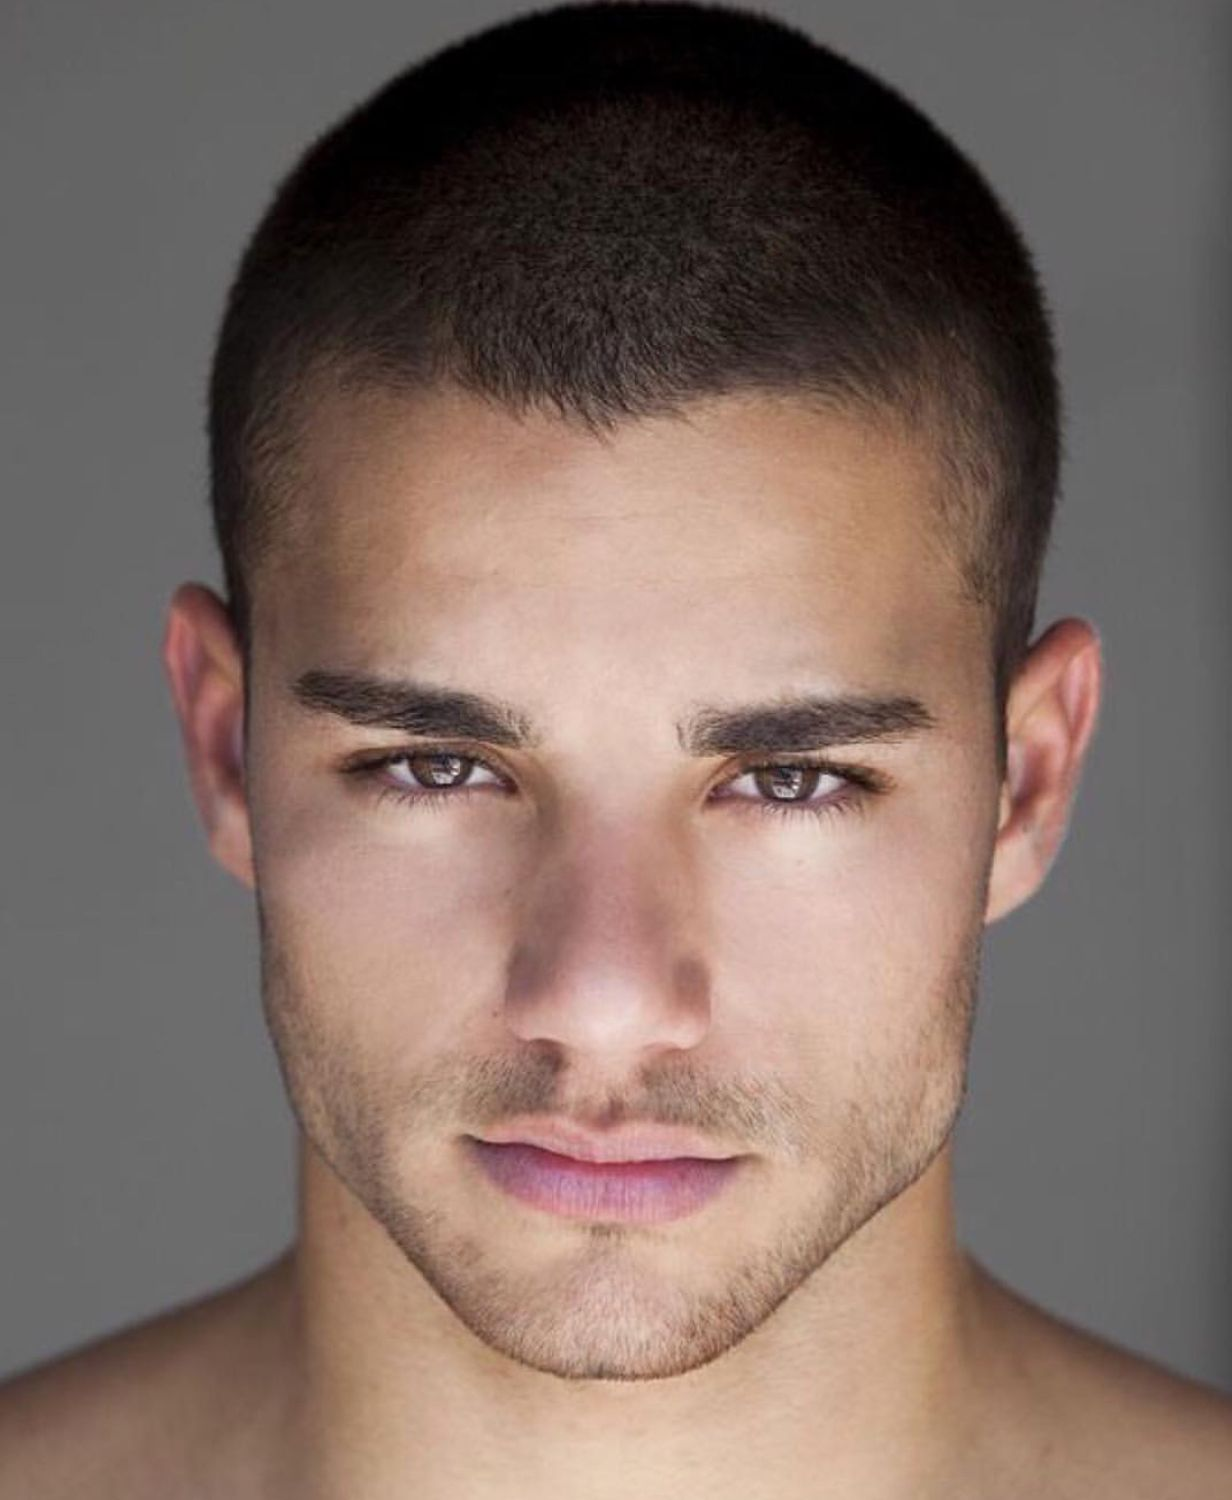no_mask: (134, 25, 1123, 1425)
